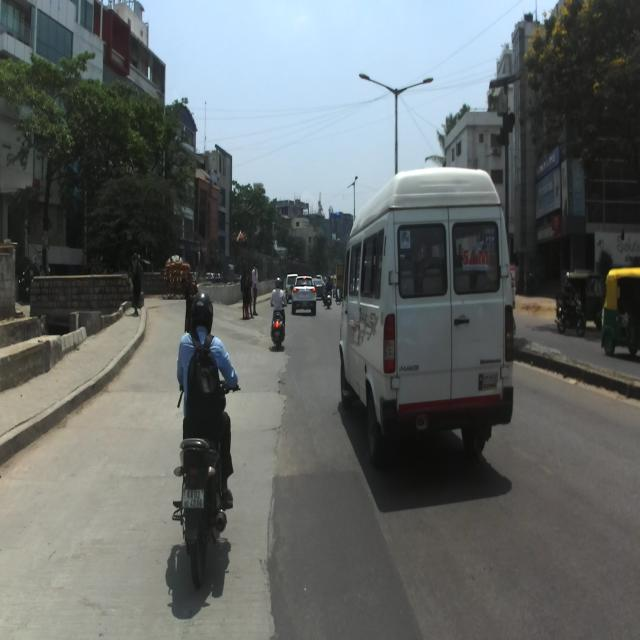bus ahead at: (338, 165, 517, 462)
motorcycle ahead at: (170, 412, 238, 584)
